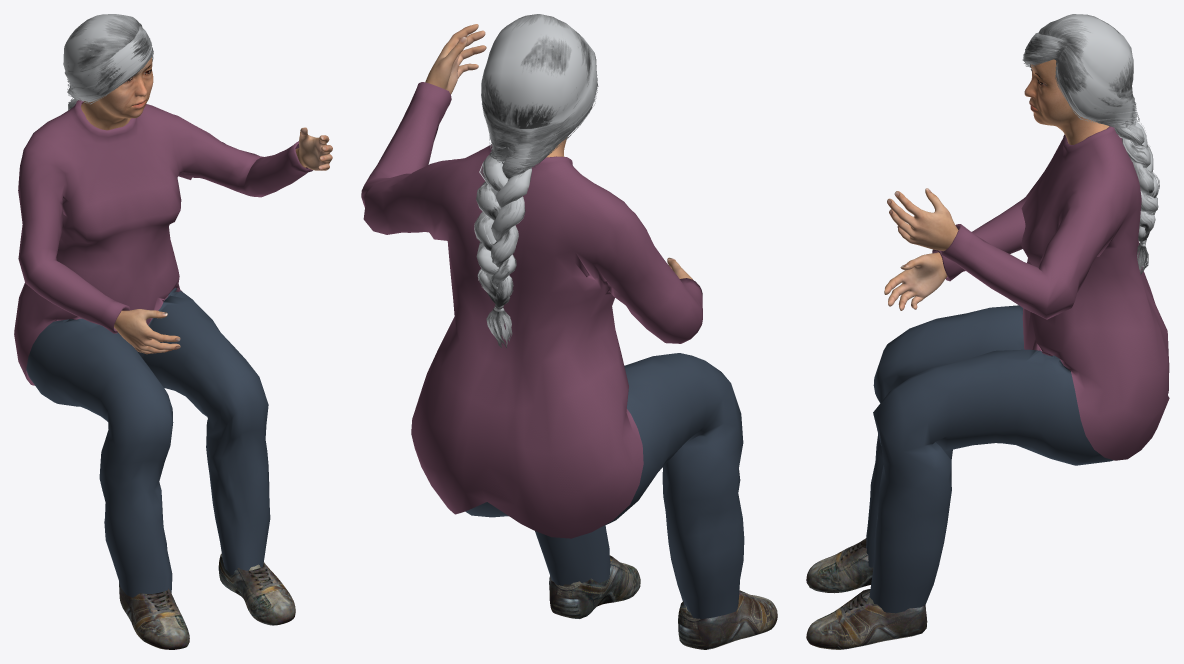
Rendered from seated-conversation.glb.
The picture shows the model from 3 angles, left to right: view 1: azimuth 30°, elevation 25°; view 2: azimuth 150°, elevation 25°; view 3: azimuth 270°, elevation 25°; orthographic projection. The views are drawn at different scales.
Parts seen in each view (by area): view 1: male_casualsuit02, braid01, shoes02, Nora | anatomical body; view 2: male_casualsuit02, braid01, shoes02, Nora | anatomical body; view 3: male_casualsuit02, braid01, Nora | anatomical body, shoes02.
Part boxes in pixels (<box>): male_casualsuit02: <box>14,99,312,597</box>; braid01: <box>63,14,153,110</box>; shoes02: <box>119,553,295,649</box>; Nora | anatomical body: <box>81,57,332,354</box>; male_casualsuit02: <box>361,82,744,618</box>; braid01: <box>474,14,598,347</box>; shoes02: <box>549,555,777,649</box>; Nora | anatomical body: <box>425,24,692,279</box>; male_casualsuit02: <box>866,126,1169,613</box>; braid01: <box>1022,14,1159,274</box>; Nora | anatomical body: <box>884,59,1109,310</box>; shoes02: <box>806,538,927,649</box>.
Size of the model in its own units: 0.6333 by 1.26 by 0.6941.
Materials: 10 (10 with a texture image).
